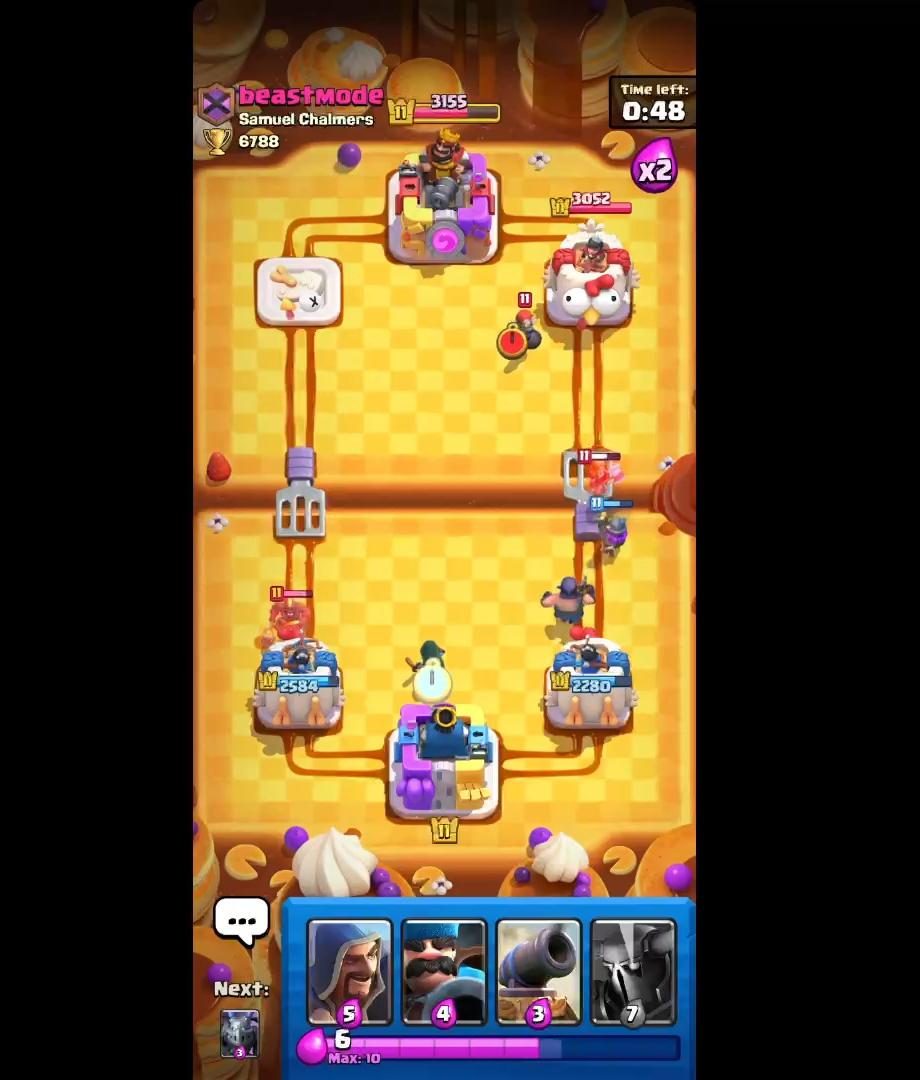Hog Rider: (267, 585, 323, 646)
Valkyrie: (567, 447, 621, 501)
